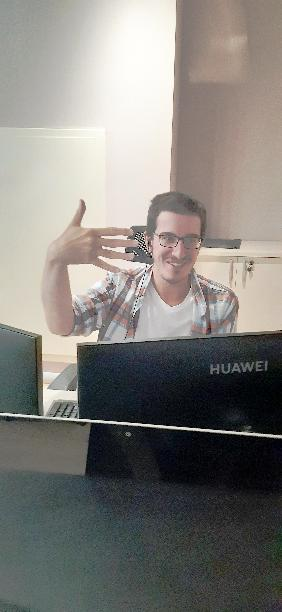Paper: (48, 194, 143, 275)
